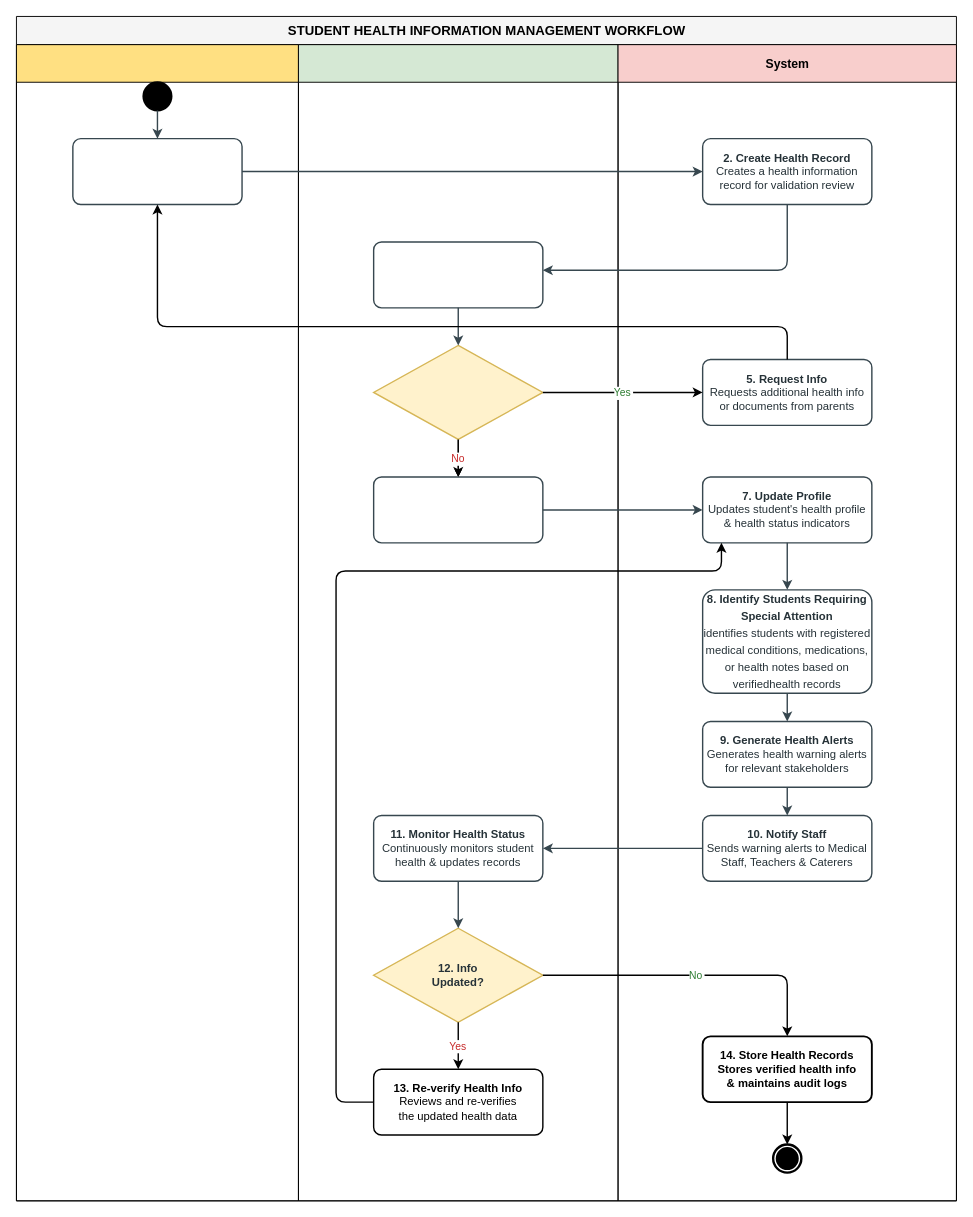
This 973x1217 diagram has some shape labels left out. Here are the shapes that lost their labels. From the top down, the box of each, then its label:
(72, 138, 242, 205): 1. Submit Health Info Submits conditions, history, medications & emergencies
(373, 241, 543, 308): 3. Review Health Info Reviews health information for completeness & accuracy
(373, 344, 543, 440): 4. Clarification Required?
(373, 476, 543, 543): 6. Verify Health Info Verifies and approves the submitted health information
(16, 44, 298, 1201): Parent
(298, 44, 618, 1201): Medical Staff
